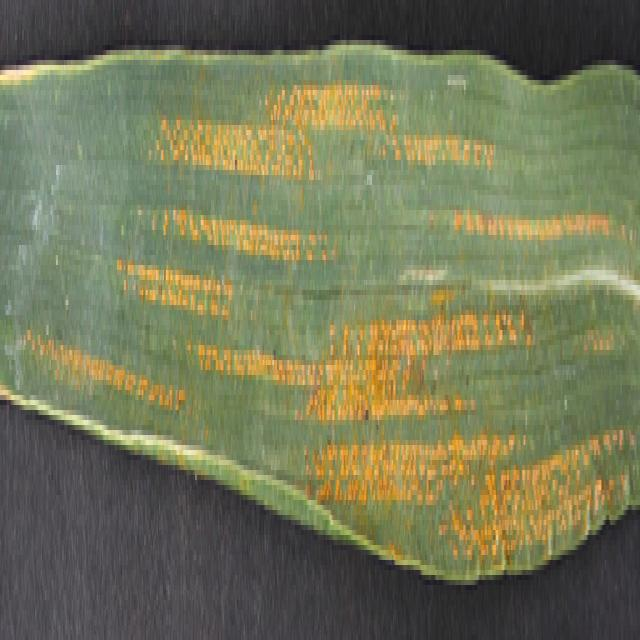leaf rust: (29, 5, 640, 585)
